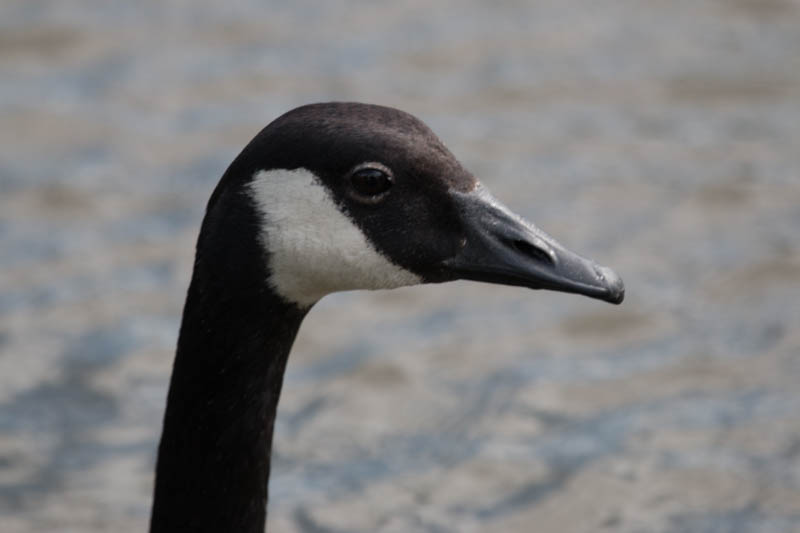goose-head: (188, 102, 624, 307)
